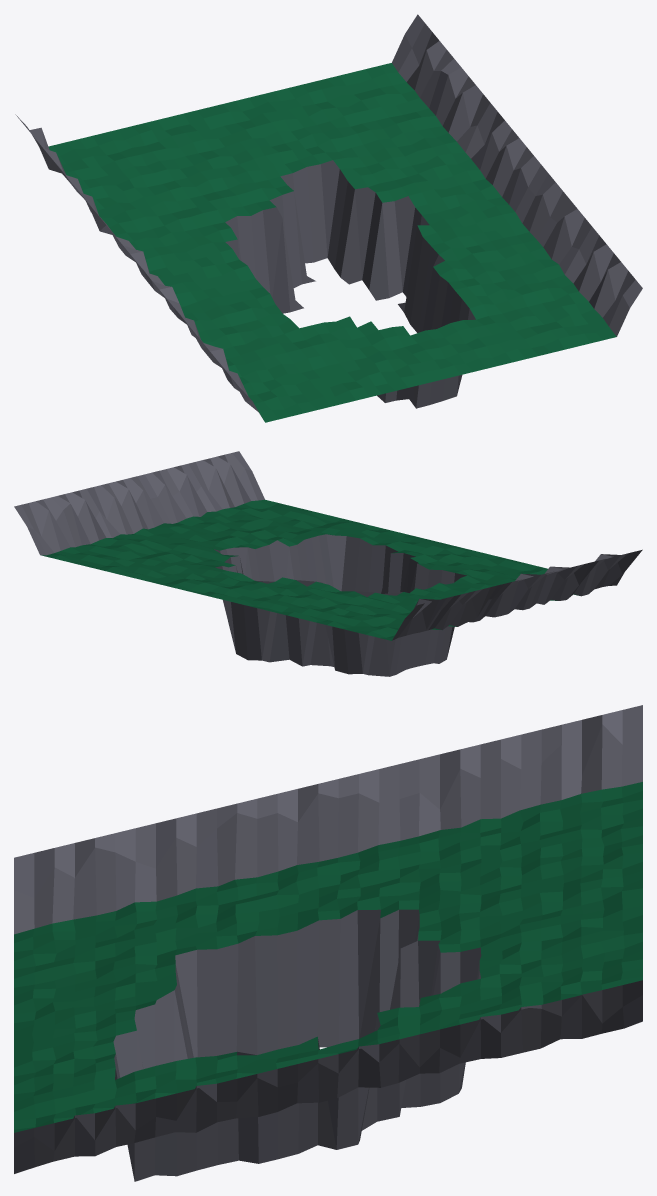
File: HillPrefab3.fbx
3 views of the same model, one above another, from view 1: azimuth 30°, elevation 25°; view 2: azimuth 150°, elevation 25°; view 3: azimuth 270°, elevation 25° (orthographic). The views are drawn at different scales.
Visible parts, largest first — view 1: Plane; view 2: Plane; view 3: Plane.
Part boxes in pixels (x1=…): Plane: x1=15, y1=14, x2=642, y2=422; Plane: x1=14, y1=451, x2=642, y2=676; Plane: x1=14, y1=705, x2=642, y2=1181.
Size of the model in its own units: 5000 by 2565 by 4830.
